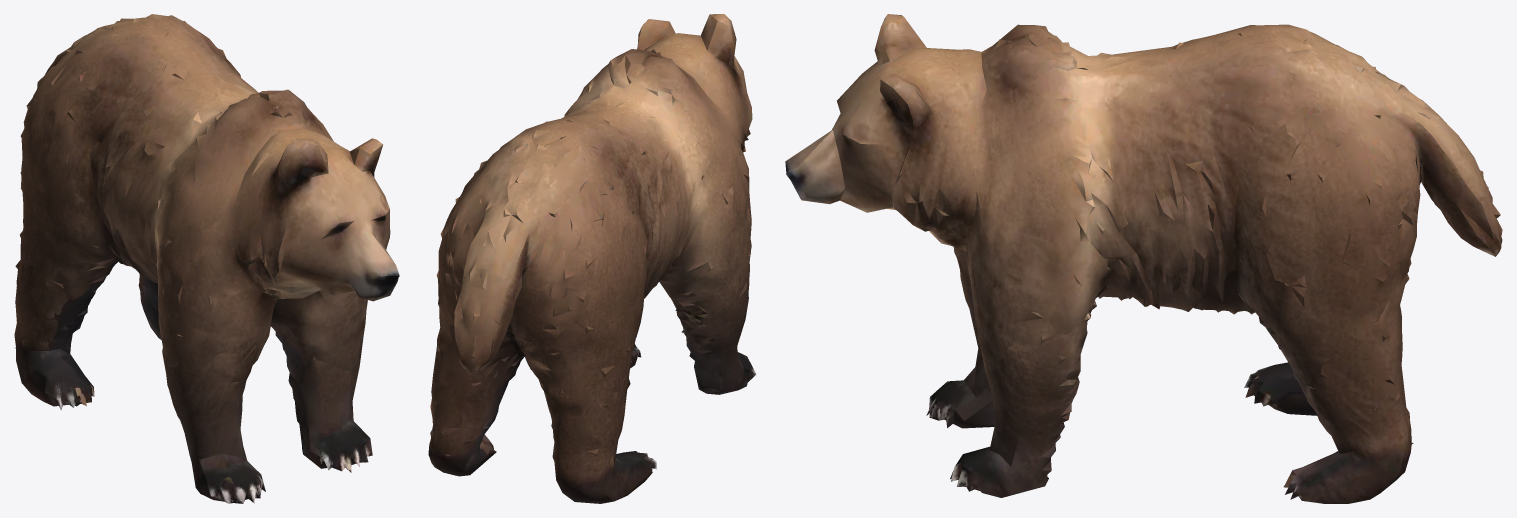
The model's file is bear-brown.glb.
3 renders of one model, left to right at view 1: azimuth 30°, elevation 25°; view 2: azimuth 150°, elevation 25°; view 3: azimuth 270°, elevation 25°, orthographic. The views are drawn at different scales.
Visible parts, largest first — view 1: bear-brown; view 2: bear-brown; view 3: bear-brown.
Boxes of the visible parts, x1,y1,x2,y2 form: bear-brown: (14, 14, 399, 503); bear-brown: (428, 14, 756, 503); bear-brown: (785, 14, 1502, 503).
Size of the model in its own units: 0.8812 by 1.5 by 2.27.
1 material, 1 textured.
